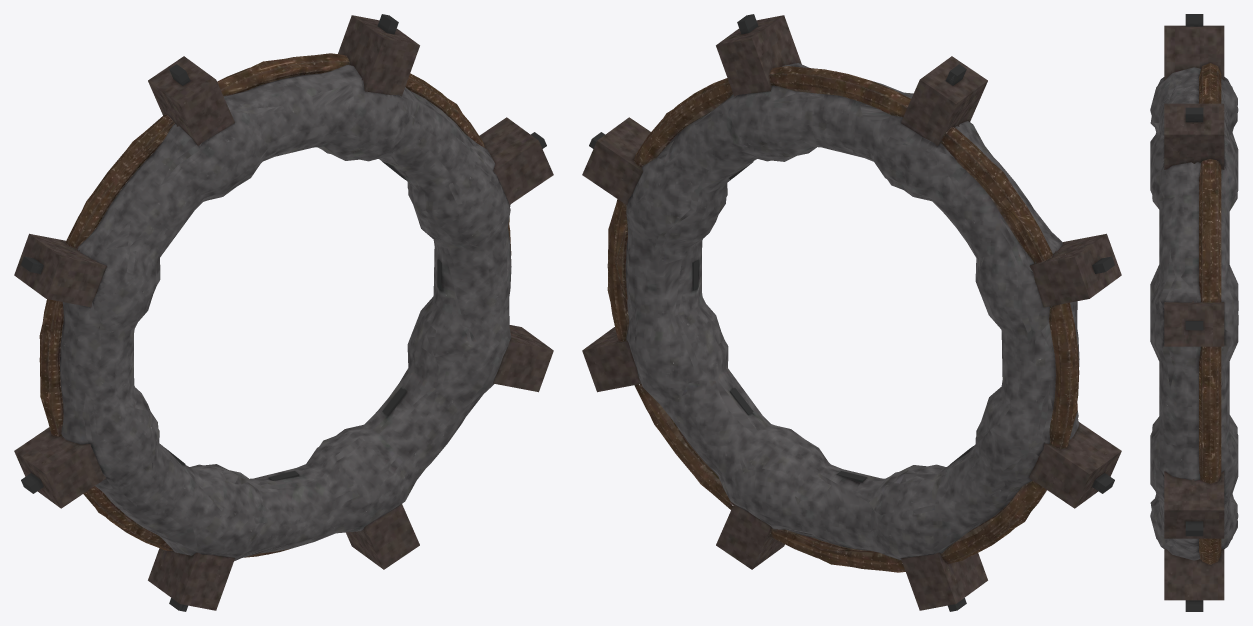
Rendered from sd_prop_gate_kizil.glb.
3 renders of one model, left to right at view 1: azimuth 30°, elevation 25°; view 2: azimuth 150°, elevation 25°; view 3: azimuth 270°, elevation 25°, orthographic. The views are drawn at different scales.
Visible parts, largest first — view 1: LOD0_body, LOD1_body; view 2: LOD0_body, LOD1_body; view 3: LOD0_body, LOD1_body.
Part boxes in pixels (x1=…): LOD0_body: x1=14, y1=14, x2=553, y2=611; LOD1_body: x1=33, y1=31, x2=510, y2=610; LOD0_body: x1=582, y1=14, x2=1121, y2=611; LOD1_body: x1=607, y1=66, x2=1102, y2=572; LOD0_body: x1=1150, y1=14, x2=1238, y2=611; LOD1_body: x1=1150, y1=63, x2=1238, y2=561.
Size of the model in its own units: 1 by 1 by 0.1595.
Materials: 1 (1 with a texture image).
